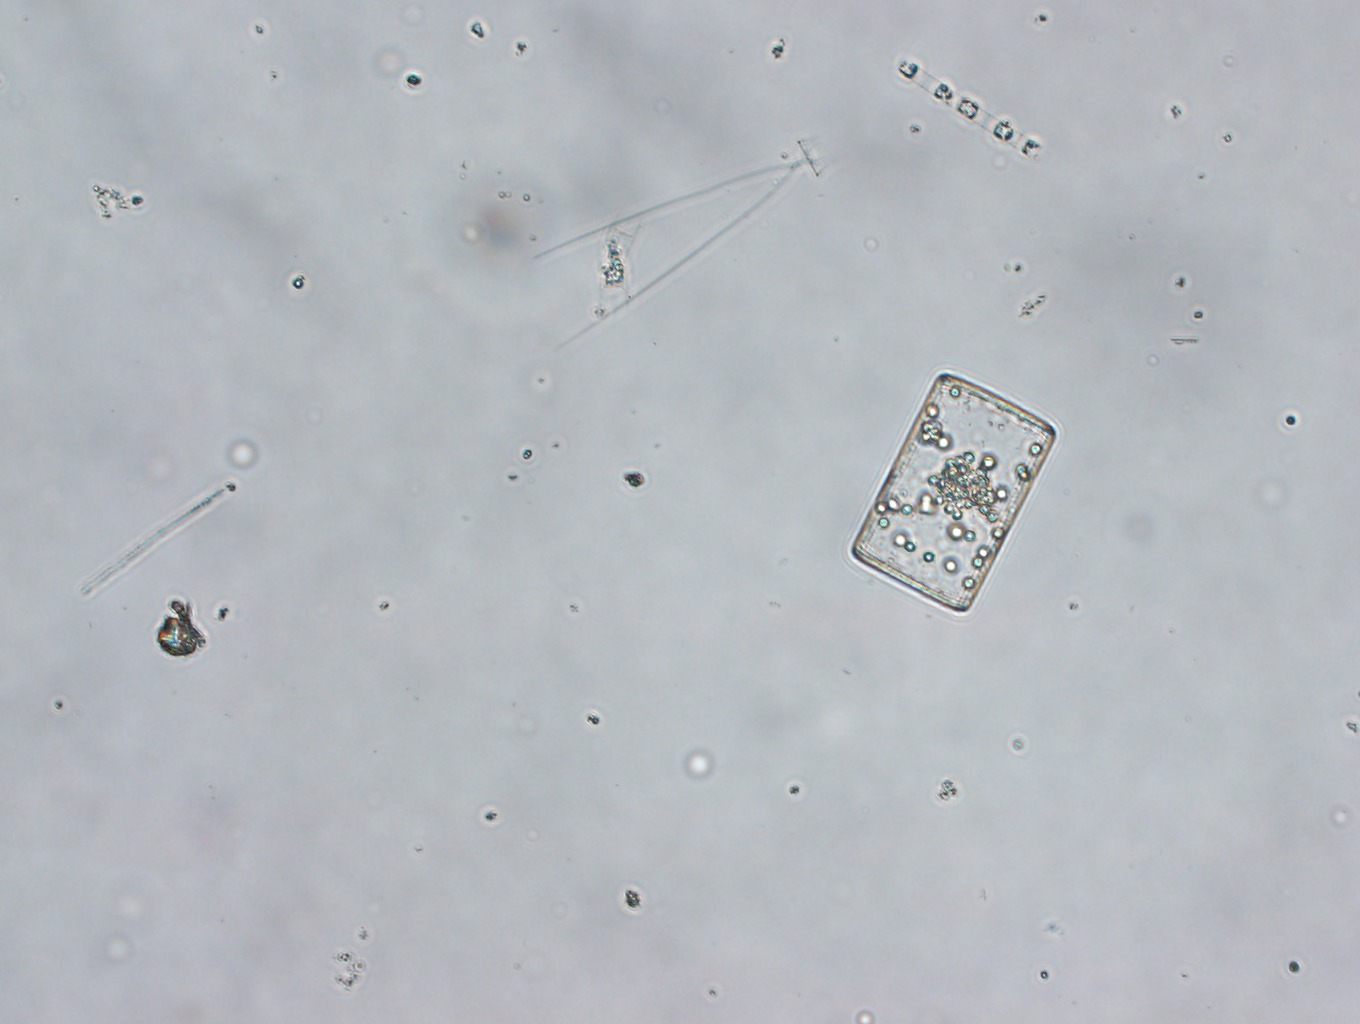chaetoceros: (533, 136, 838, 357)
guinardia flaccida: (846, 370, 1057, 614)
skeletonema: (890, 56, 1044, 161)
